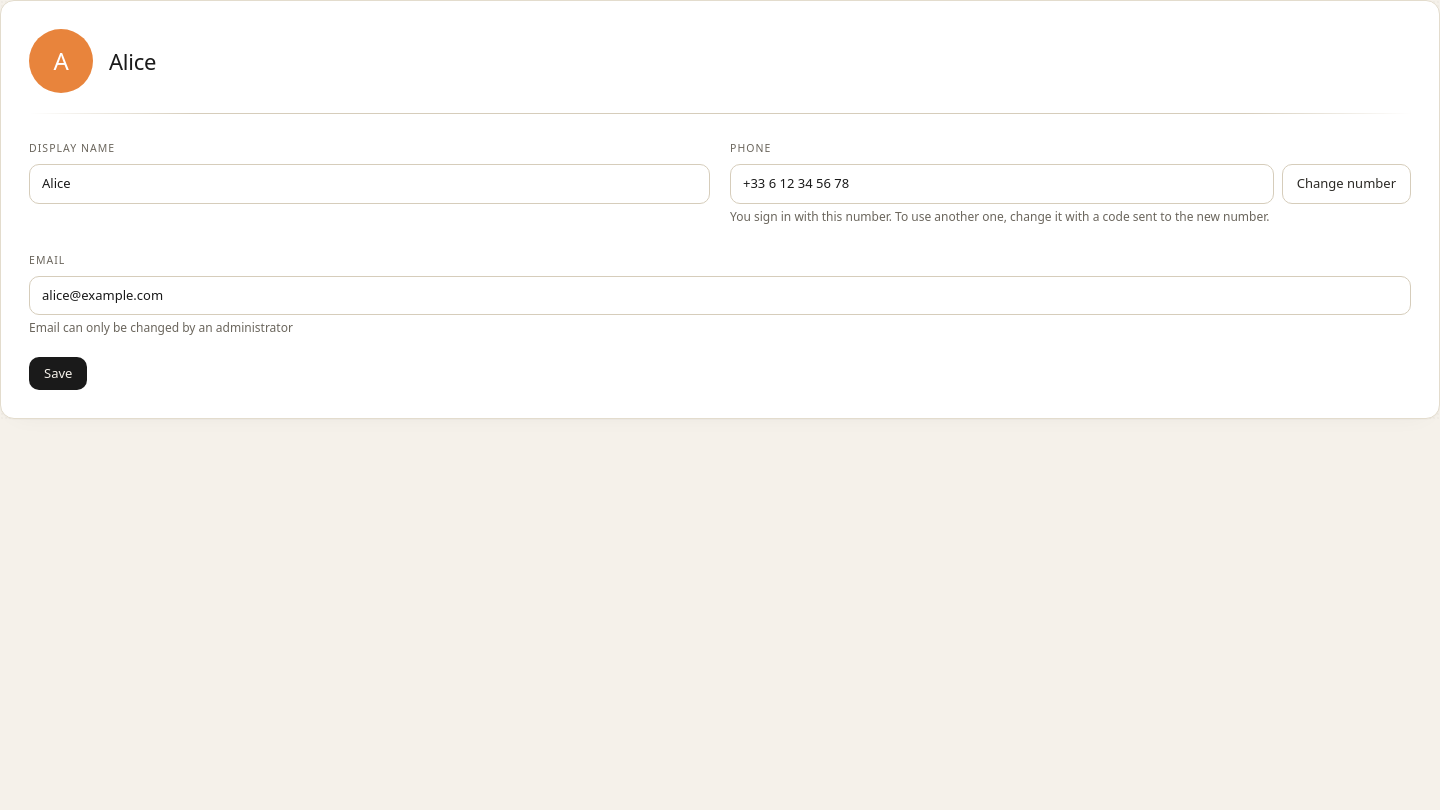
Test: ProfileForm — change number › refuses a foreign number before asking the server, and says why
Click the button "Change number": click(1346, 184) left=1282, top=164, right=1411, bottom=204
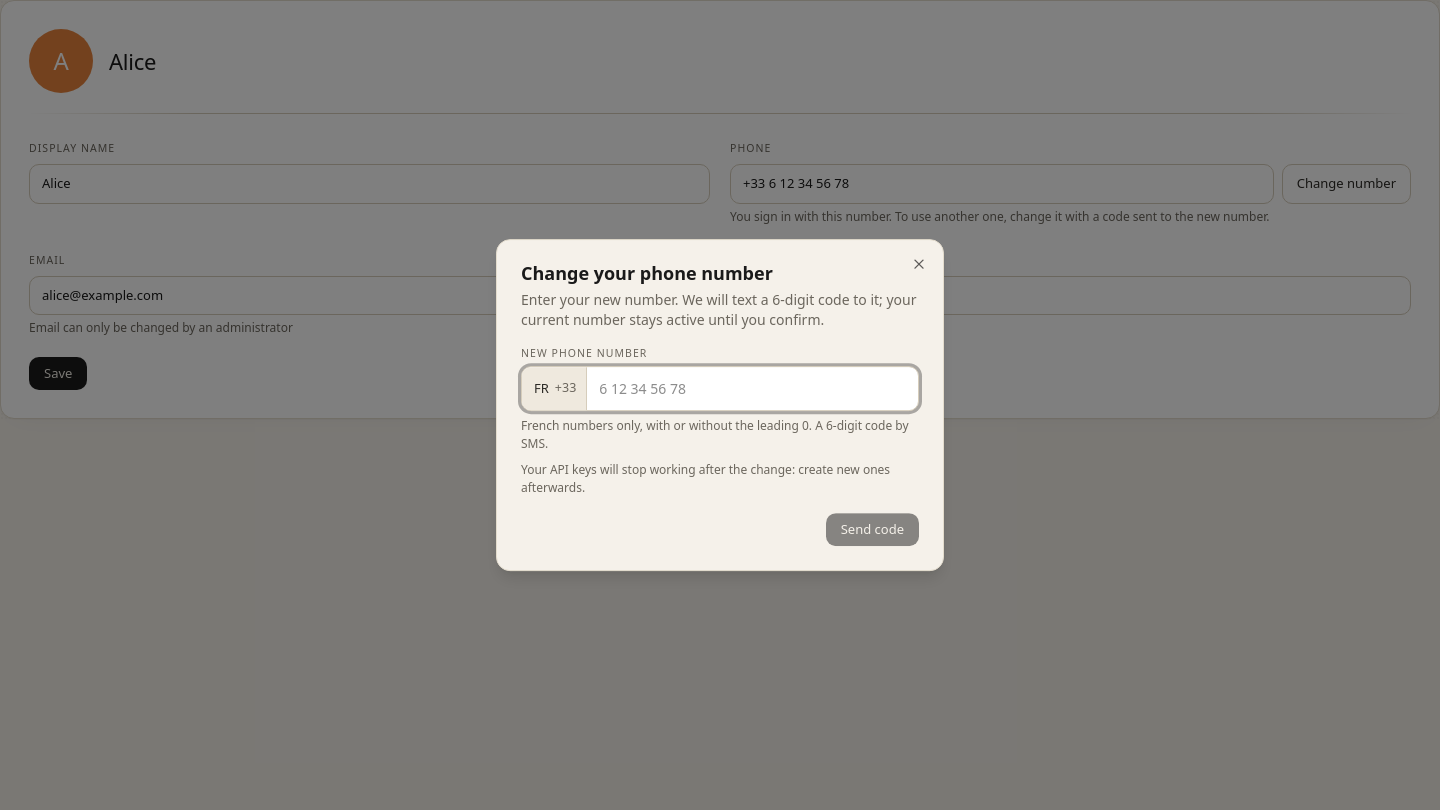
In the field with test id "change-phone-phone": (753, 388) left=587, top=367, right=918, bottom=410, type "+84912345678"
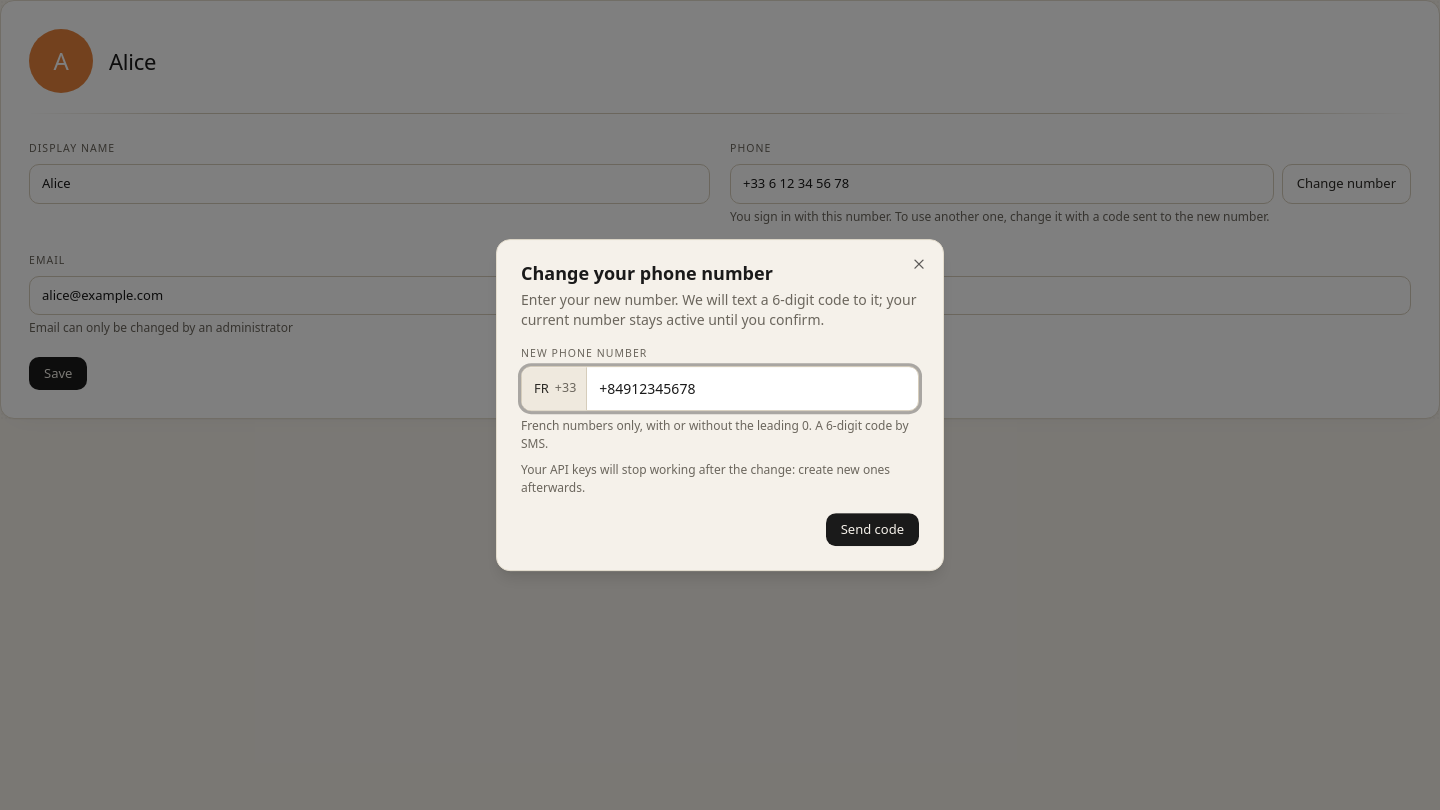
# Send stays usable so the press can explain the refusal (as on sign-in).
Click the button with test id "change-phone-send": click(872, 529) left=826, top=513, right=919, bottom=546
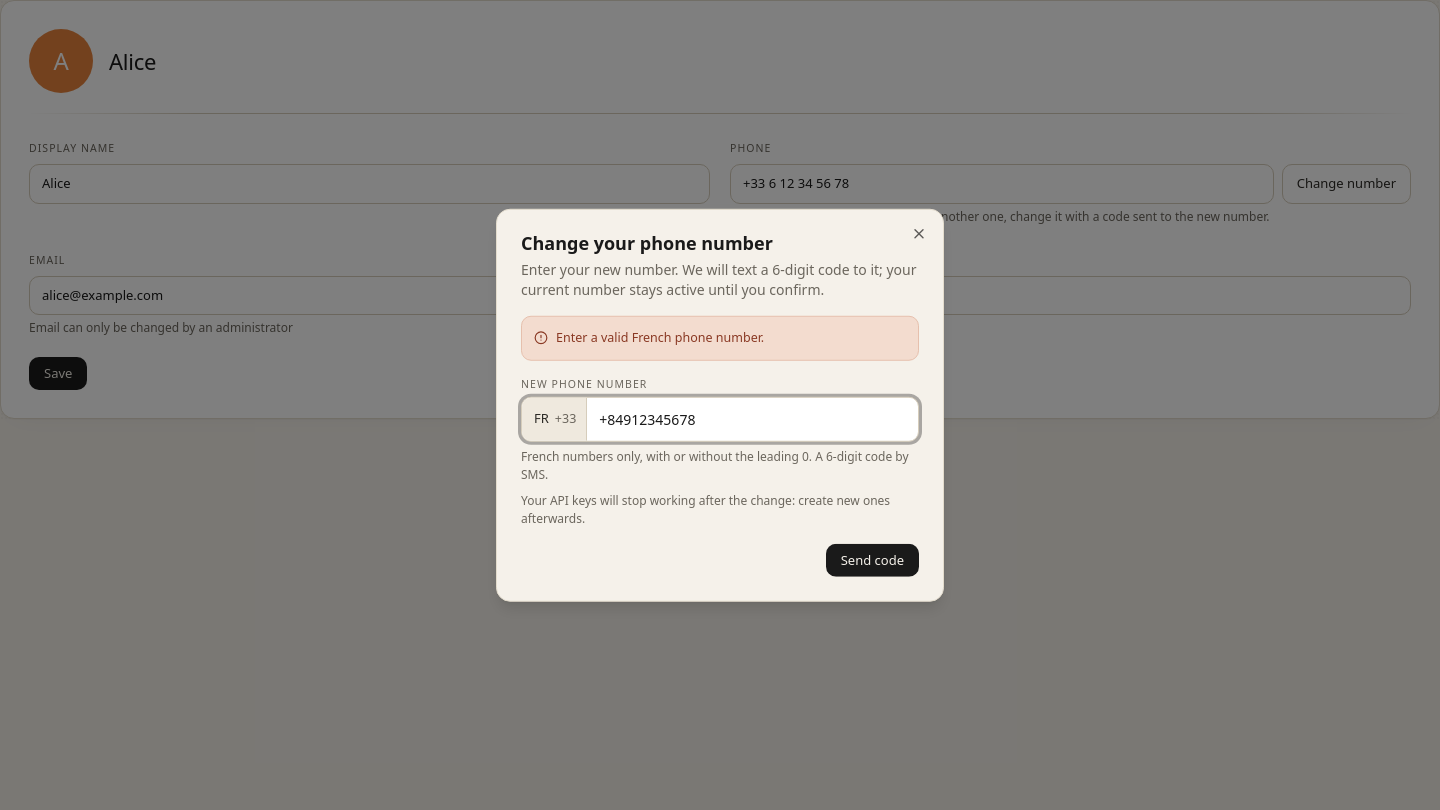
Expected: the message "Enter a valid French phone number." is shown, left=521, top=316, right=919, bottom=361
